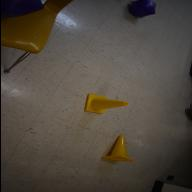cone: (100, 136, 134, 162), (83, 94, 127, 114)
cube: (0, 0, 44, 18), (128, 0, 156, 18)
